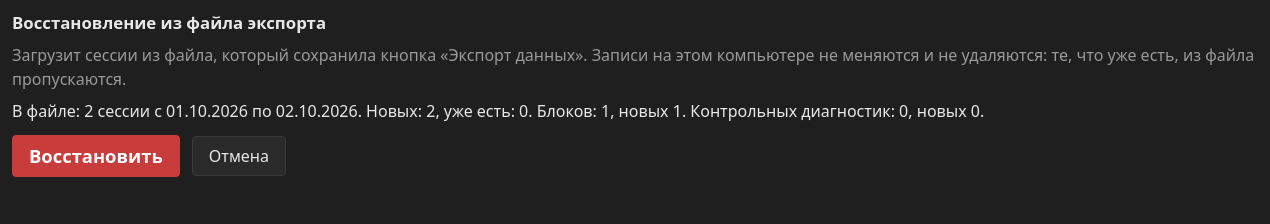
Scenario: RestoreSection › names a setting the file could not give
The image size is (1270, 224).
Earlier steps of the test are not shown.
Click the button "Восстановить" at [96, 156], box [12,135,180,177]
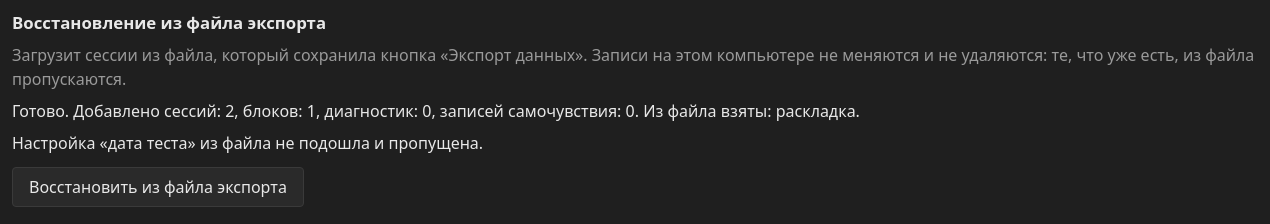
expect the text "Из файла взяты: раскладка." is shown: met, box [12,100,860,122]
expect the text "Настройка «дата теста» из файла не подошла и пропущена." is shown: met, box [12,132,483,154]
